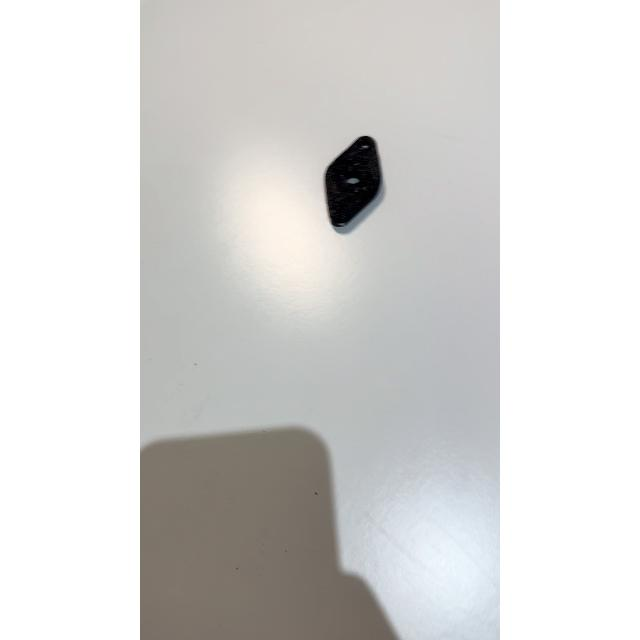Pieza_2: (310, 125, 388, 242)
